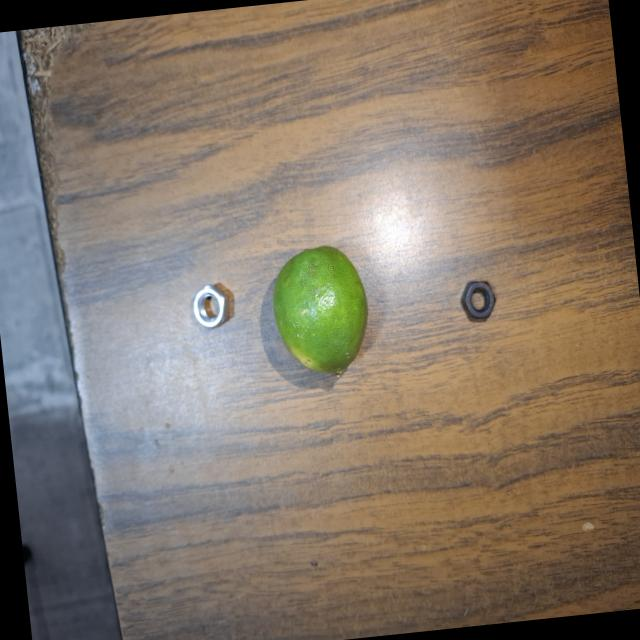limon: (262, 238, 376, 390)
milimetrico: (452, 271, 506, 327)
tuerca: (179, 276, 243, 348)
